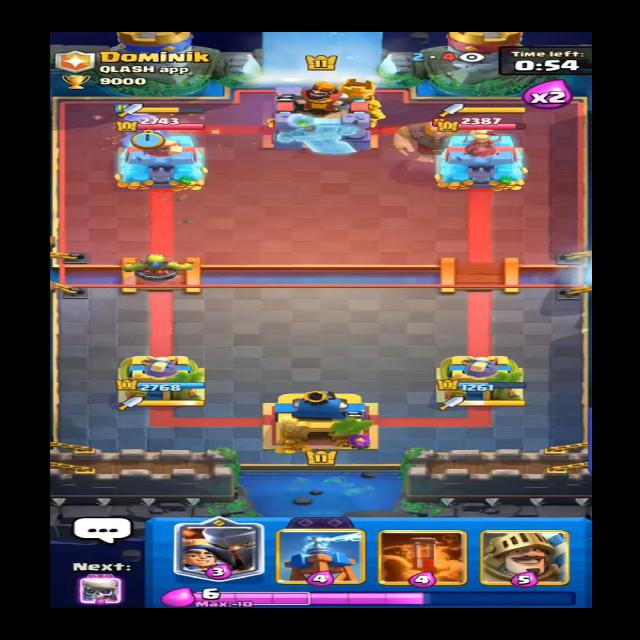Giant: (382, 112, 485, 164)
